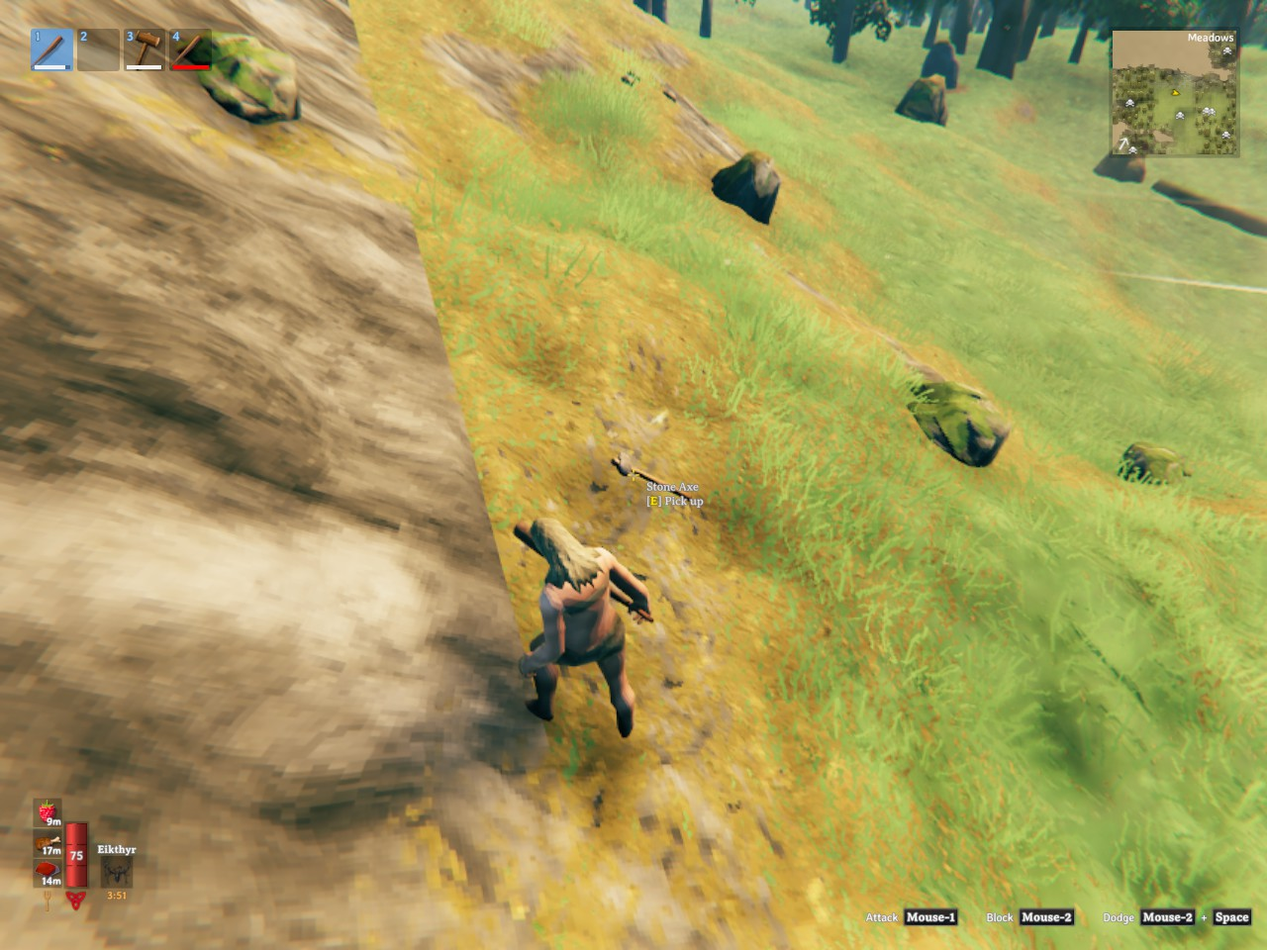Food Indicator: (36, 797, 63, 891)
Health Bar: (63, 820, 90, 891)
Hotbar: (25, 21, 398, 78)
Stone: (622, 70, 639, 86), (664, 86, 677, 101)
Stone Axe: (611, 452, 701, 502)
